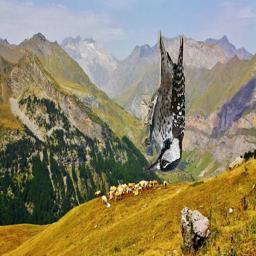Woodpecker: (139, 31, 185, 174)
